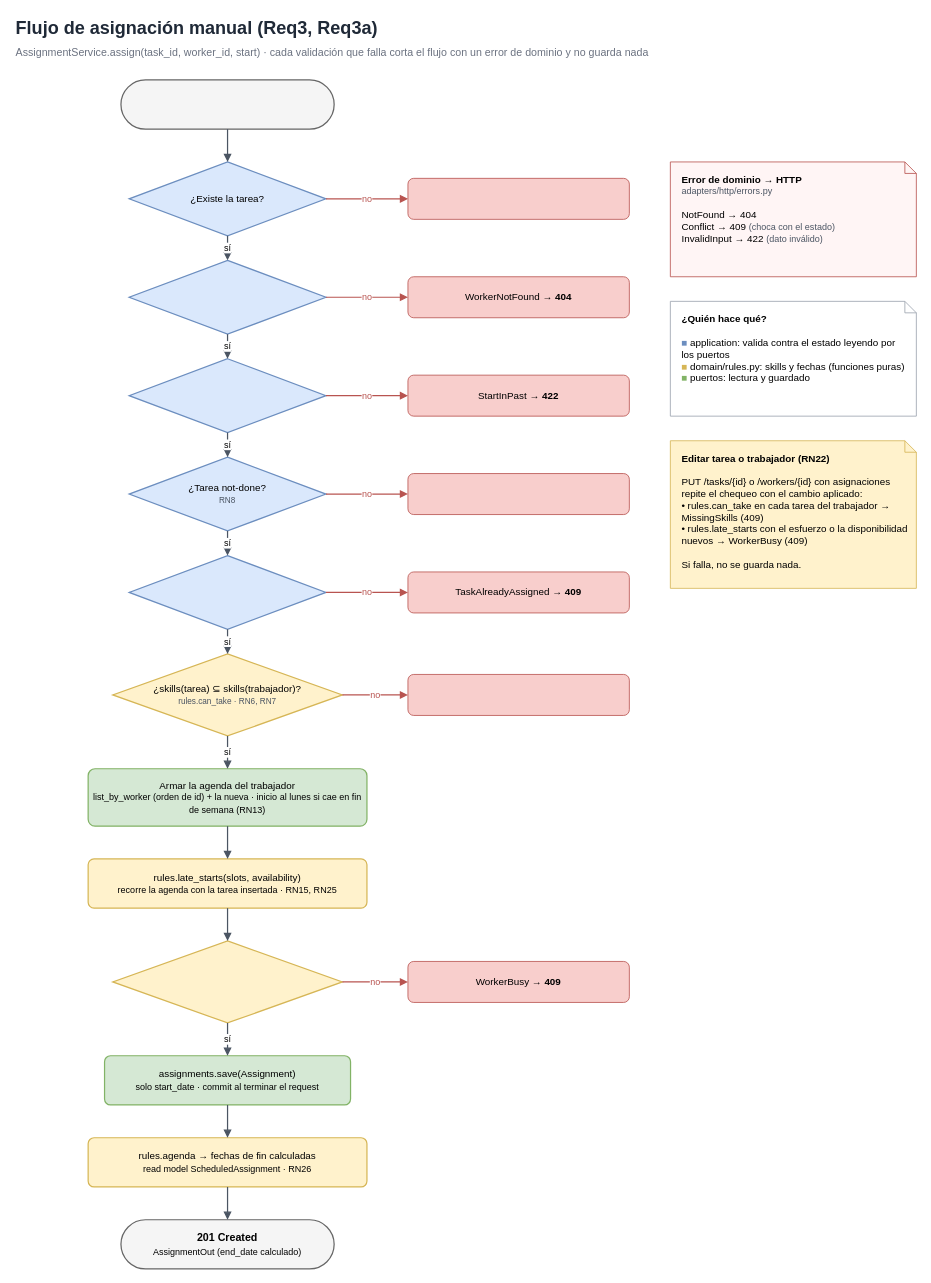
Image size: 931x1283. Some labels were removed from this diagram. Each missing label, with the box of its shape:
MissingSkills → 409: (407, 674, 629, 715)
POST /api/v1/assignments task_id · worker_id · start_date: (120, 79, 334, 129)
TaskDone → 409: (407, 473, 629, 515)
TaskNotFound → 404: (407, 178, 629, 219)
¿Existe el trabajador?: (128, 259, 326, 334)
¿start_date ≥ hoy? Clock · RN11: (128, 358, 326, 433)
¿Tarea sin asignación? get_by_task · RN9: (128, 555, 326, 630)
¿Todas conservan su día de inicio? ≥ 1 h el día de su start_date · RN25: (112, 940, 343, 1023)
